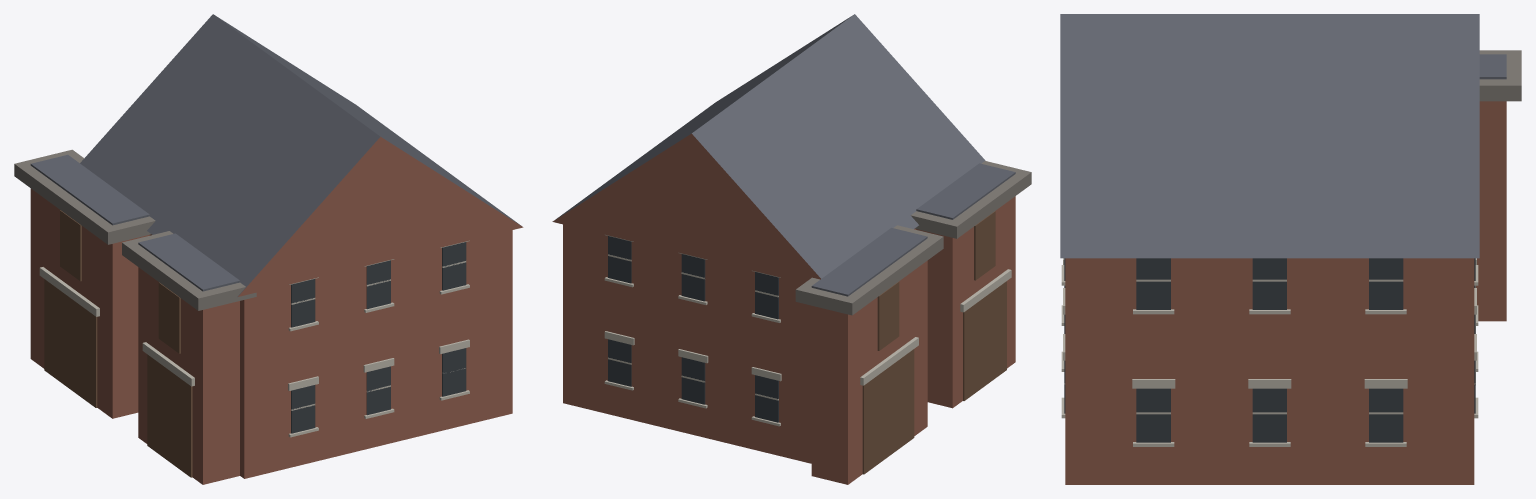
Rendered from shortall_gregory_house_1638_prairie_coach_house__draft_1904.glb.
3 renders of one model, left to right at view 1: azimuth 30°, elevation 25°; view 2: azimuth 150°, elevation 25°; view 3: azimuth 270°, elevation 25°, orthographic. The views are drawn at different scales.
Visible parts, largest first — view 1: shortall_gregory_house_1638_prairie_coach_house__draft_1904; view 2: shortall_gregory_house_1638_prairie_coach_house__draft_1904; view 3: shortall_gregory_house_1638_prairie_coach_house__draft_1904.
Part boxes in pixels (bbox=[...]): shortall_gregory_house_1638_prairie_coach_house__draft_1904: bbox=[14, 14, 523, 484]; shortall_gregory_house_1638_prairie_coach_house__draft_1904: bbox=[552, 14, 1031, 484]; shortall_gregory_house_1638_prairie_coach_house__draft_1904: bbox=[1060, 14, 1521, 484].
Size of the model in its own units: 10.9 by 9.98 by 10.72.
